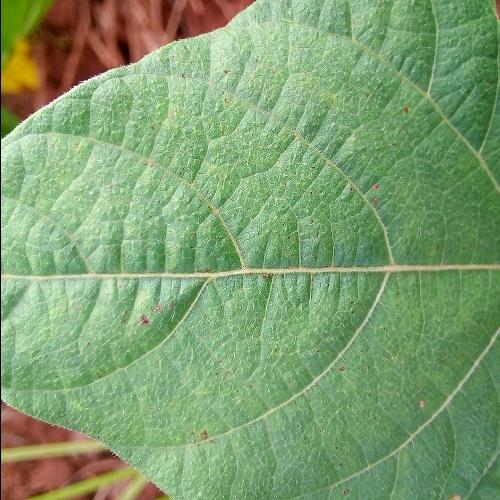hawar: (239, 140, 412, 308), (321, 358, 371, 500), (116, 294, 188, 334), (183, 418, 223, 464)
